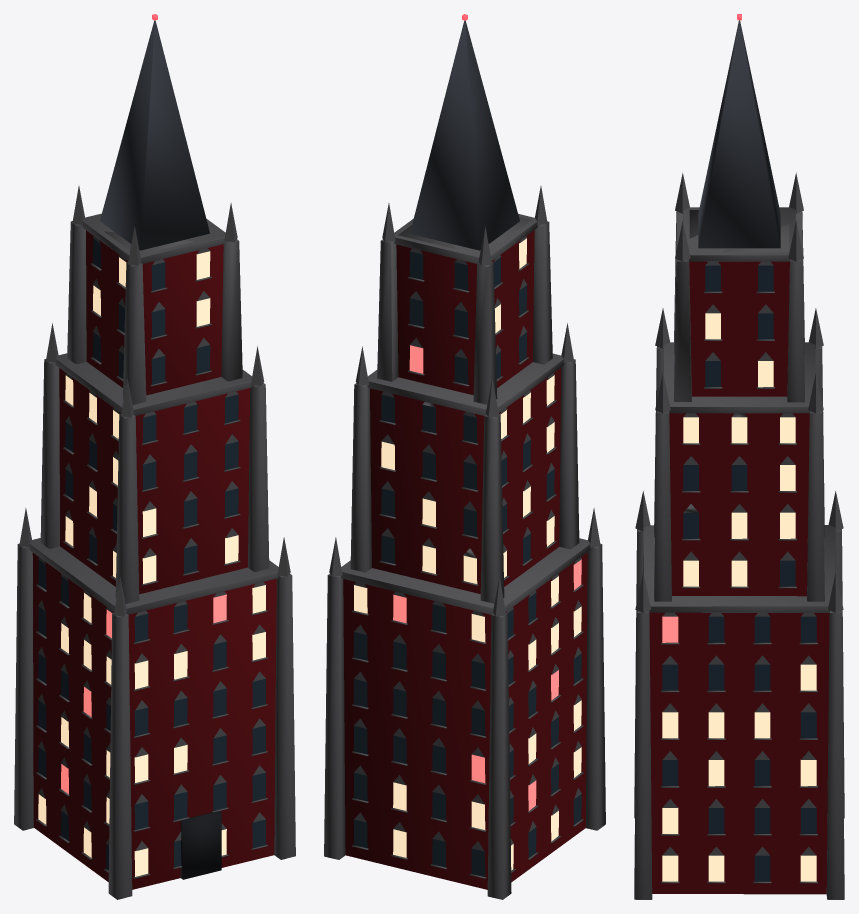
The model's file is kit_gothic_tower_lod1.glb.
The picture shows the model from 3 angles, left to right: view 1: azimuth 30°, elevation 25°; view 2: azimuth 150°, elevation 25°; view 3: azimuth 270°, elevation 25°; orthographic projection.
Visible parts, largest first — view 1: gothic_tower_LOD1; view 2: gothic_tower_LOD1; view 3: gothic_tower_LOD1.
Boxes of the visible parts, <box> form: gothic_tower_LOD1: <box>14,14,295,899</box>; gothic_tower_LOD1: <box>324,14,605,899</box>; gothic_tower_LOD1: <box>634,14,844,899</box>.
Size of the model in its own units: 15.95 by 70.38 by 15.97.
8 materials, 8 textured.
